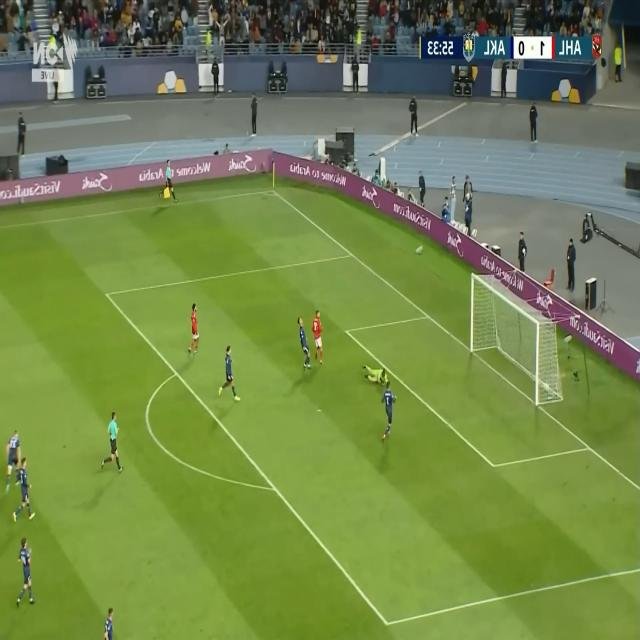Ball: (542, 380, 548, 394)
Keeper: (361, 366, 390, 384)
Player: (13, 458, 36, 524), (16, 538, 34, 606), (219, 346, 239, 404), (5, 431, 22, 493), (381, 381, 397, 445), (296, 314, 312, 375), (187, 304, 198, 357), (313, 311, 322, 366), (103, 604, 115, 640)
Ref: (101, 407, 123, 474), (158, 159, 177, 204)
